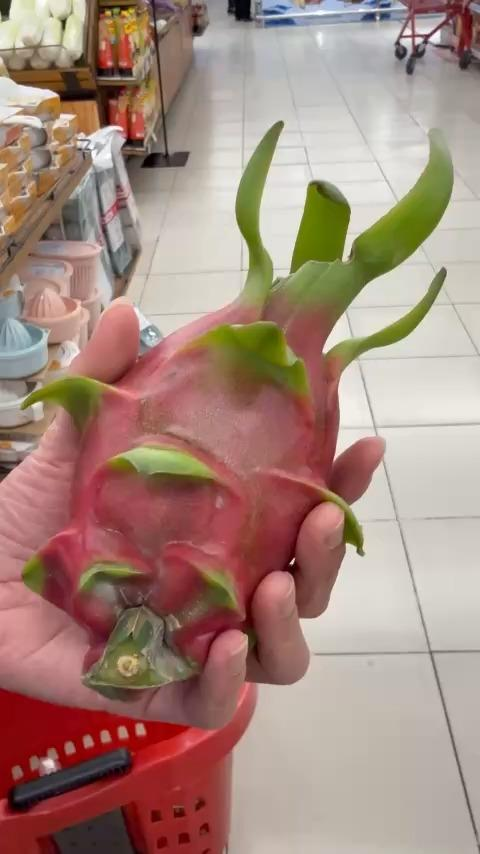dragon fruit: (30, 122, 465, 695)
